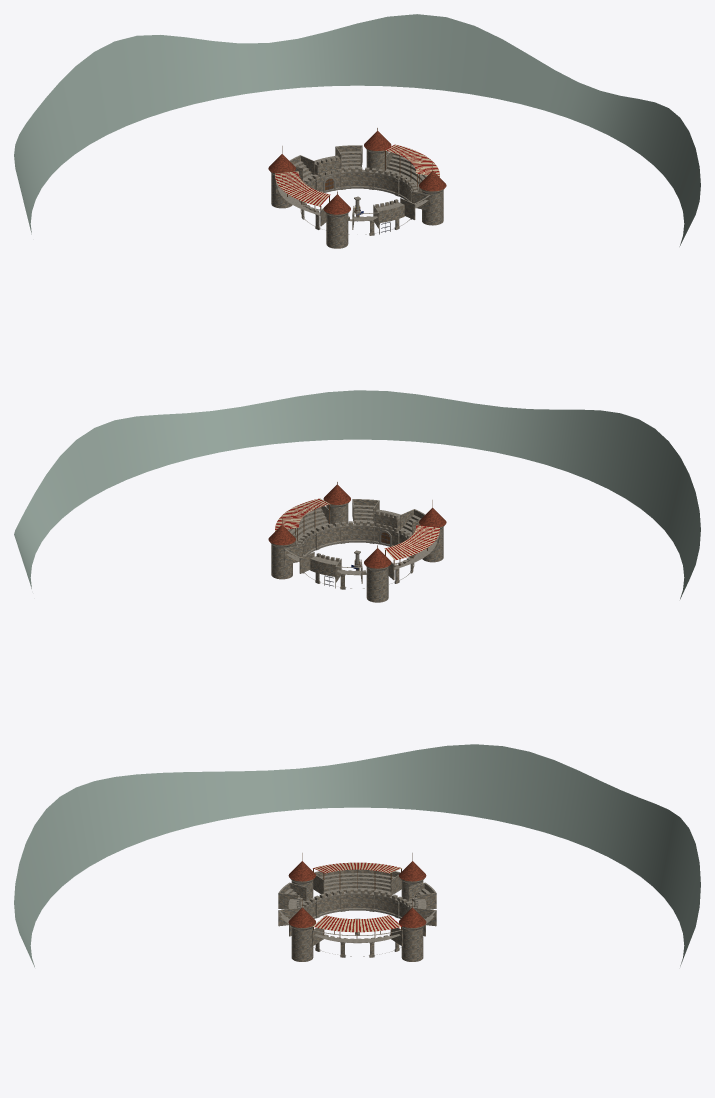
Rendered from arena.glb.
The picture shows the model from 3 angles, top to bottom: view 1: azimuth 30°, elevation 25°; view 2: azimuth 150°, elevation 25°; view 3: azimuth 270°, elevation 25°; orthographic projection.
Visible parts, largest first — view 1: S_Hills, S_Stands, S_Wall, S_Tower2, S_Tower3, S_Tower0, S_Tower1; view 2: S_Hills, S_Stands, S_Wall, S_Tower1, S_Tower0, S_Tower3, S_Tower2; view 3: S_Hills, S_Stands, S_Wall, S_Tower0, S_Tower3, S_Tower1, S_Tower2.
Boxes of the visible parts, x1,y1,x2,y2 form: S_Hills: [14, 14, 700, 246]; S_Stands: [275, 144, 439, 229]; S_Wall: [298, 155, 417, 235]; S_Tower2: [323, 191, 350, 248]; S_Tower3: [419, 163, 446, 225]; S_Tower0: [364, 128, 391, 171]; S_Tower1: [268, 146, 295, 208]; S_Hills: [14, 390, 700, 599]; S_Stands: [275, 498, 439, 583]; S_Wall: [297, 509, 416, 589]; S_Tower1: [364, 545, 391, 602]; S_Tower0: [268, 517, 295, 579]; S_Tower3: [323, 482, 350, 525]; S_Tower2: [419, 500, 446, 562]; S_Hills: [14, 744, 700, 967]; S_Stands: [278, 862, 436, 946]; S_Wall: [288, 889, 426, 957]; S_Tower0: [399, 899, 426, 961]; S_Tower3: [288, 899, 315, 961]; S_Tower1: [398, 853, 426, 901]; S_Tower2: [288, 853, 316, 900].
Bounding box in the file's own units: 164 × 21 × 164.
Materials: 19 (14 with a texture image).
